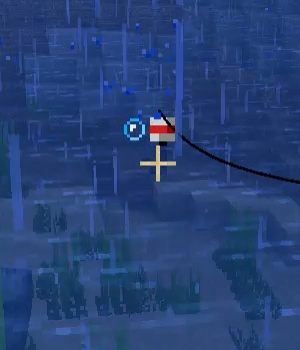up: (146, 109, 184, 155)
